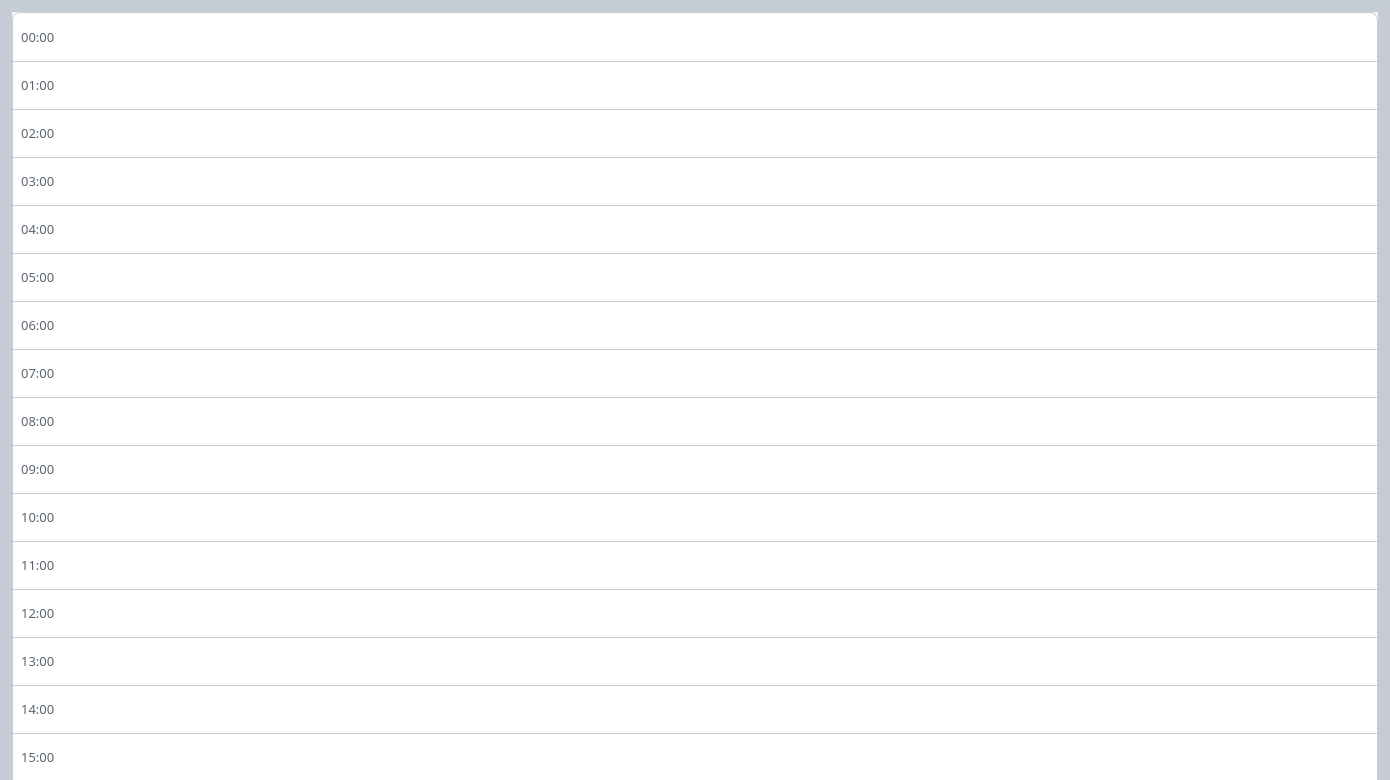
Test case: Calendar: making an event › takes the new event away and says so when the server fails
Click the button "14:00" at [38, 709], box [13, 685, 1377, 733]
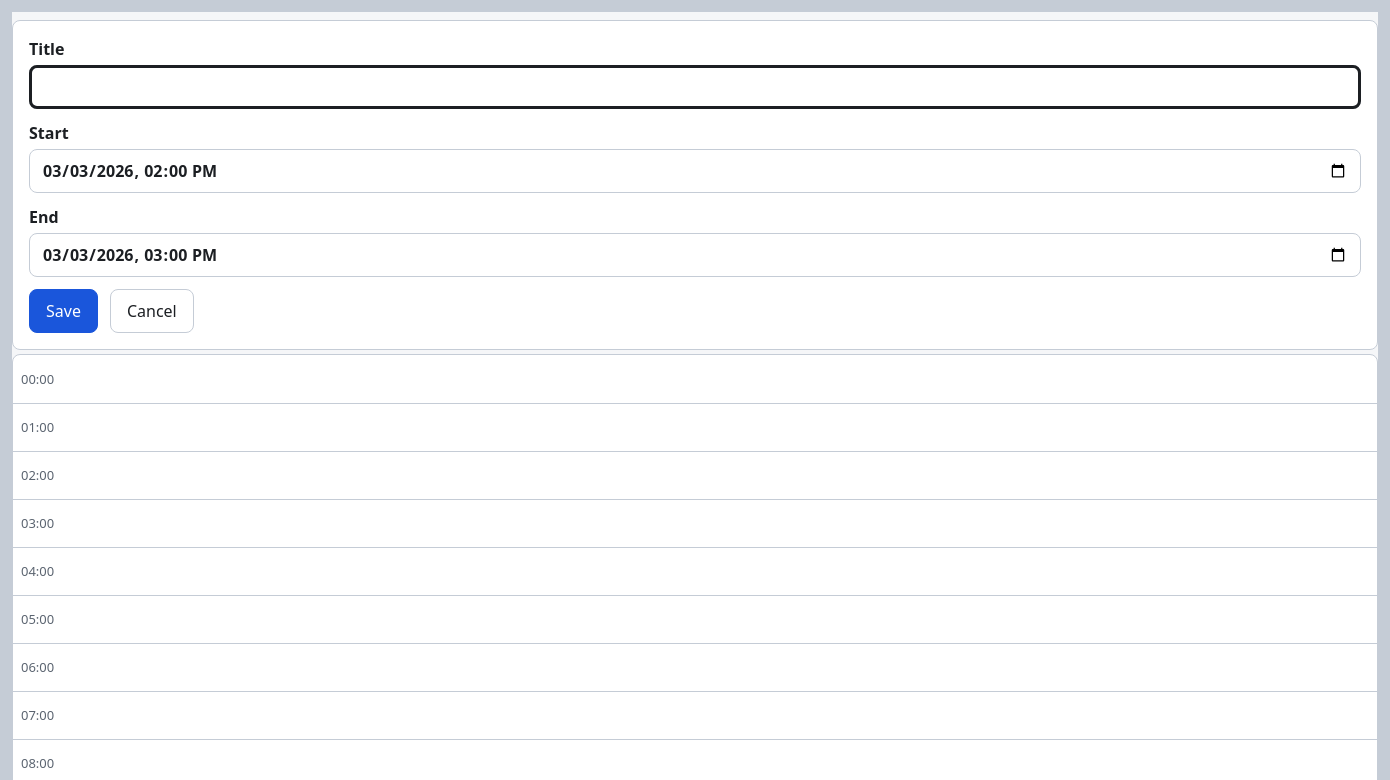
Type "Roadmap" into the field labelled "Title" at [695, 87], box [29, 65, 1361, 109]
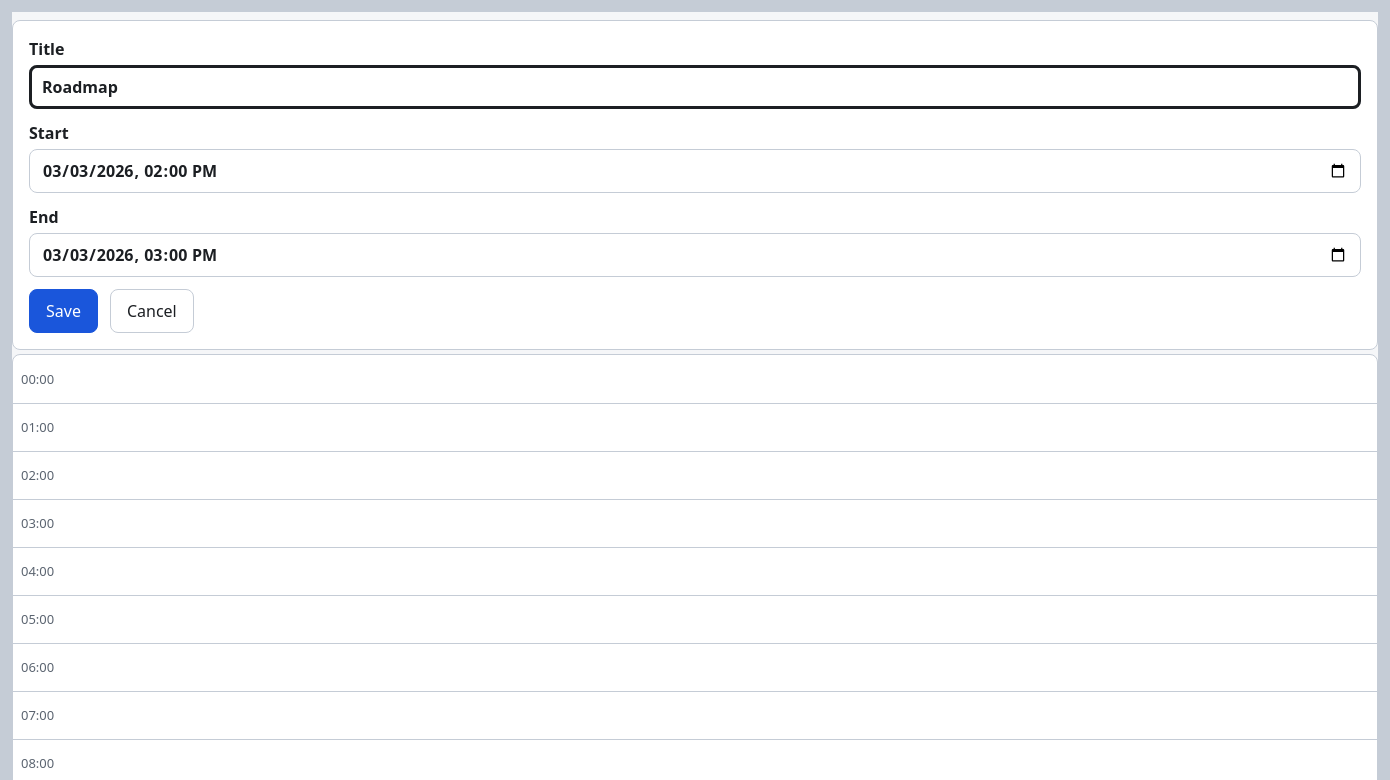
Click the button "Save" at [63, 311], box [29, 289, 98, 333]
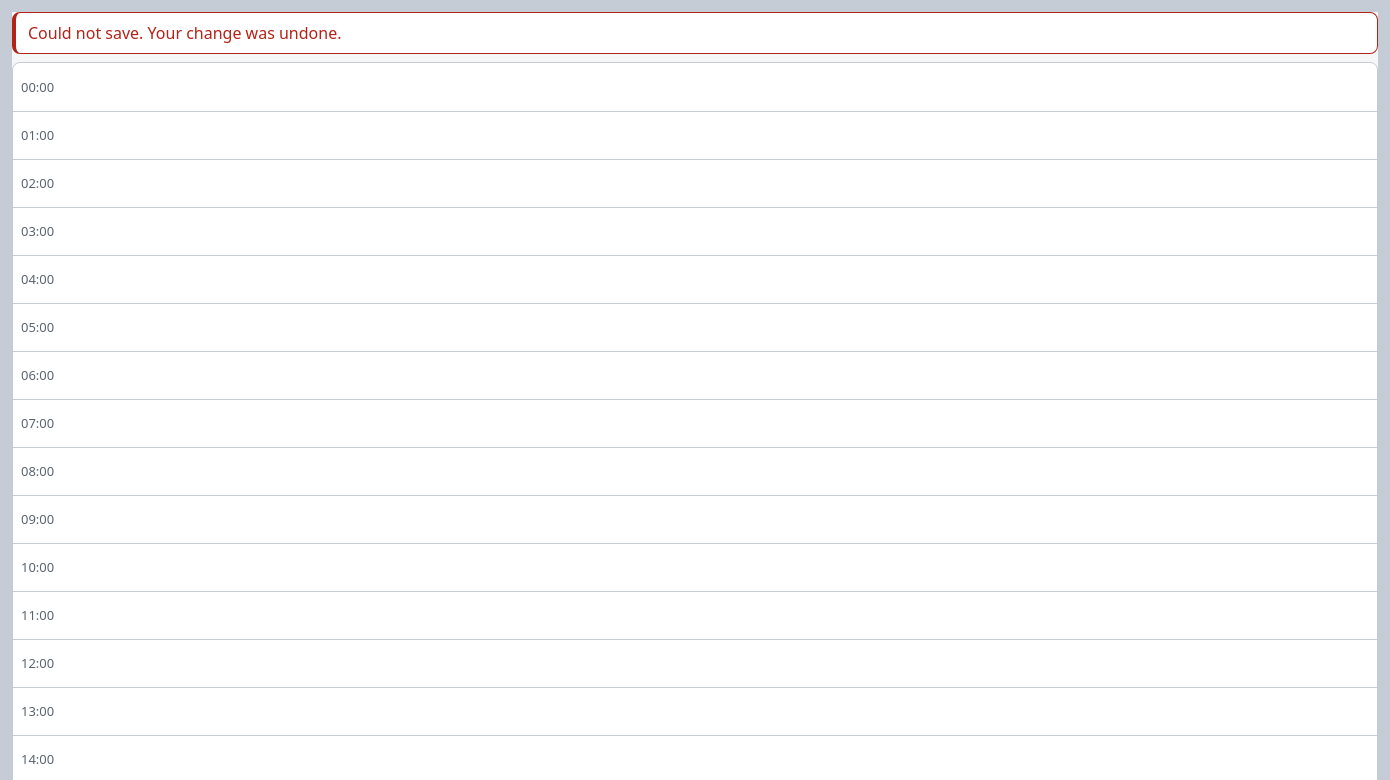
Check: the message reads "Could not save. Your change was undone.", box [28, 22, 342, 44]
